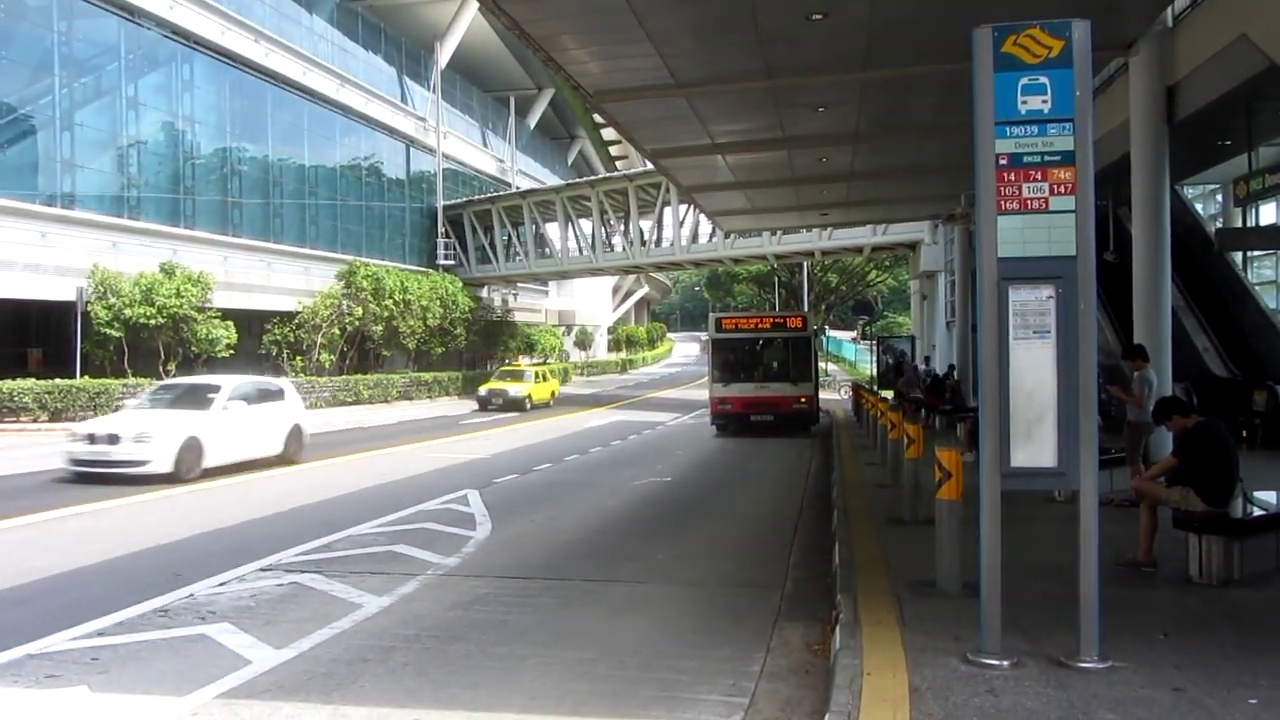bus panel: (714, 315, 809, 334)
